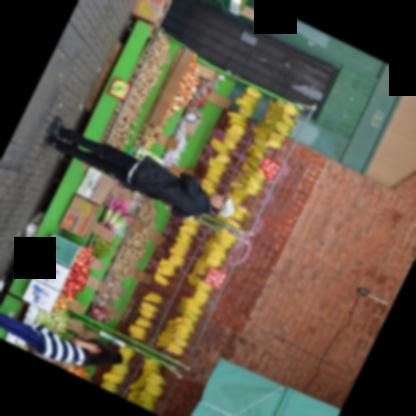handbag: (27, 345, 85, 361), (113, 176, 147, 195)
